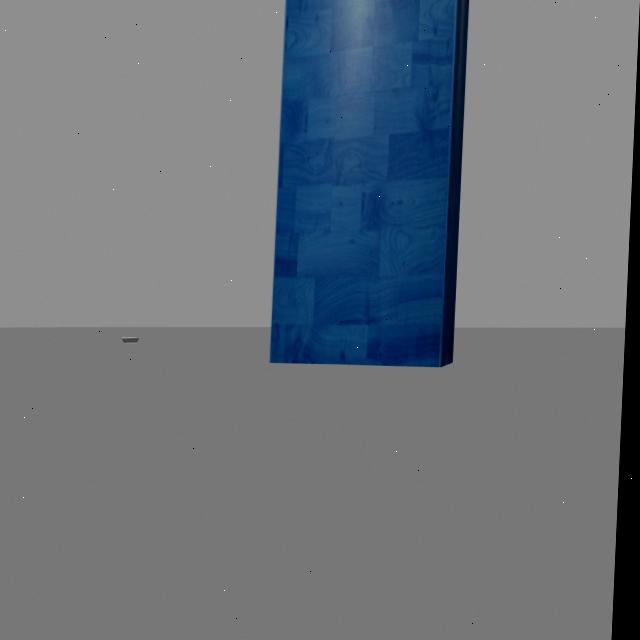bowl: (120, 325, 150, 357)
shelf: (253, 0, 488, 402)
